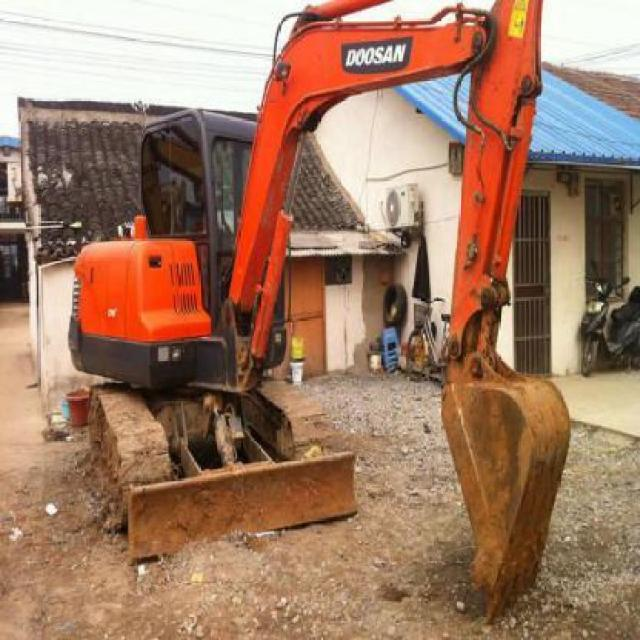Excavator: (69, 0, 572, 631)
